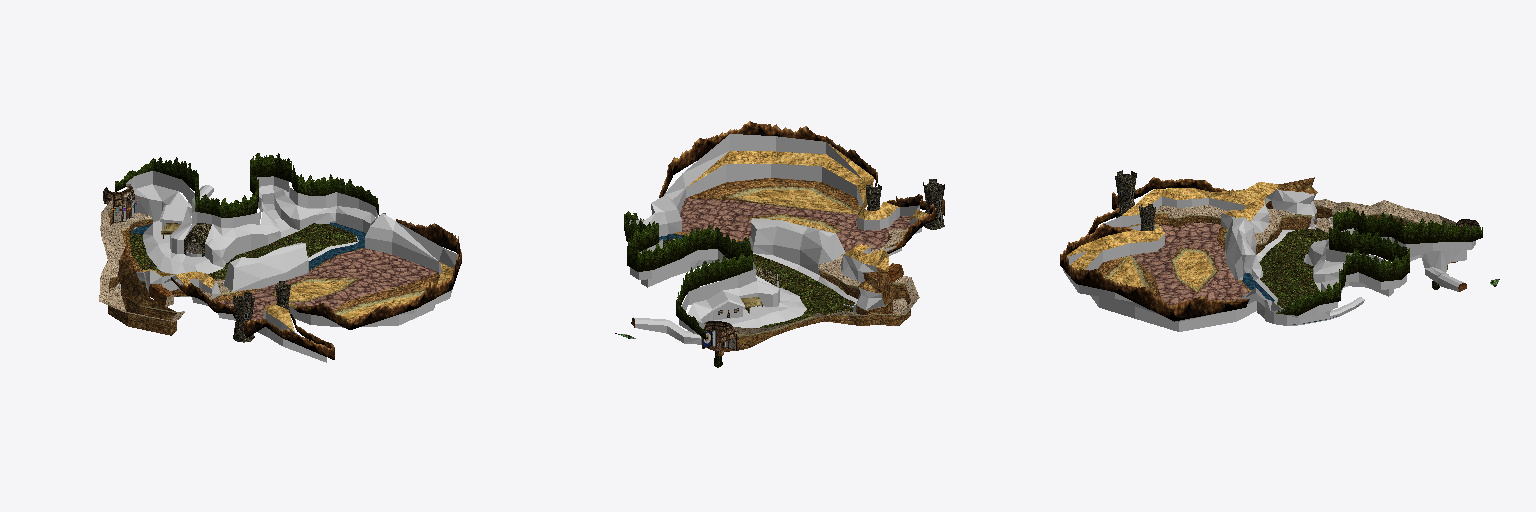
3 views of the same model, side by side, from view 1: azimuth 30°, elevation 25°; view 2: azimuth 150°, elevation 25°; view 3: azimuth 270°, elevation 25° (orthographic).
Parts seen in each view (by area): view 1: #Room0#_Field_DesertWall., #Room0#_Field_SandStoneWall#SFX_0, #Room0#_Field_ExposedDirt#SFX_0#MirrorX, #Room0#_Field_ForestBG#NoCollision, #Room0#_Field_fx_mountains#NoCollision, #Room0#_Field_GrassWall., #Room0#_Field_FirstGreenGrass#SFX_8, #Room0#_Field_Forest_Tree03#NoCollision#BackfaceCulling, #Room0#_Field_Dark_Dirt_Rubbl#SFX_3, #Room0#_Field_Dry_Dirt2#SFX_1#FLOORSPECIAL_SAND, #Room0#_Field_WhiteDirt#SFX_8, #Room0#_Field_Brick_Broke#NoCollision#BackfaceCulling (+1 smaller); view 2: #Room0#_Field_DesertWall., #Room0#_Field_SandStoneWall#SFX_0, #Room0#_Field_ForestBG#NoCollision, #Room0#_Field_Dry_Dirt2#SFX_1#FLOORSPECIAL_SAND, #Room0#_Field_ExposedDirt#SFX_0#MirrorX, #Room0#_Field_GrassWall., #Room0#_Field_fx_mountains#NoCollision, #Room0#_Field_Dark_Dirt_Rubbl#SFX_3, #Room0#_Field_Forest_Tree03#NoCollision#BackfaceCulling, #Room0#_Field_FirstGreenGrass#SFX_8, #Room0#_Field_WhiteDirt#SFX_8, #Room0#_Field_Brick_Broke#NoCollision#BackfaceCulling; view 3: #Room0#_Field_DesertWall., #Room0#_Field_ForestBG#NoCollision, #Room0#_Field_Dry_Dirt2#SFX_1#FLOORSPECIAL_SAND, #Room0#_Field_fx_mountains#NoCollision, #Room0#_Field_ExposedDirt#SFX_0#MirrorX, #Room0#_Field_SandStoneWall#SFX_0, #Room0#_Field_Dark_Dirt_Rubbl#SFX_3, #Room0#_Field_GrassWall., #Room0#_Field_WhiteDirt#SFX_8, #Room0#_Field_Forest_Tree03#NoCollision#BackfaceCulling, #Room0#_Field_Brick_Broke#NoCollision#BackfaceCulling, #Room0#_Field_FirstGreenGrass#SFX_8.
Boxes of the visible parts, x1,y1,x2,y2 form: #Room0#_Field_DesertWall.: [136, 213, 458, 362]; #Room0#_Field_SandStoneWall#SFX_0: [108, 209, 439, 335]; #Room0#_Field_ExposedDirt#SFX_0#MirrorX: [218, 248, 437, 319]; #Room0#_Field_ForestBG#NoCollision: [115, 153, 379, 217]; #Room0#_Field_fx_mountains#NoCollision: [171, 219, 461, 359]; #Room0#_Field_GrassWall.: [135, 185, 374, 296]; #Room0#_Field_FirstGreenGrass#SFX_8: [133, 184, 375, 264]; #Room0#_Field_Forest_Tree03#NoCollision#BackfaceCulling: [126, 171, 377, 227]; #Room0#_Field_Dark_Dirt_Rubbl#SFX_3: [129, 223, 357, 279]; #Room0#_Field_Dry_Dirt2#SFX_1#FLOORSPECIAL_SAND: [140, 262, 453, 331]; #Room0#_Field_WhiteDirt#SFX_8: [99, 199, 233, 321]; #Room0#_Field_Brick_Broke#NoCollision#BackfaceCulling: [233, 281, 290, 342]; #Room0#_Field_DesertWall.: [651, 134, 921, 309]; #Room0#_Field_SandStoneWall#SFX_0: [673, 178, 910, 355]; #Room0#_Field_ForestBG#NoCollision: [624, 211, 752, 339]; #Room0#_Field_Dry_Dirt2#SFX_1#FLOORSPECIAL_SAND: [687, 144, 927, 271]; #Room0#_Field_ExposedDirt#SFX_0#MirrorX: [679, 198, 906, 350]; #Room0#_Field_GrassWall.: [633, 214, 857, 344]; #Room0#_Field_fx_mountains#NoCollision: [659, 121, 944, 253]; #Room0#_Field_Dark_Dirt_Rubbl#SFX_3: [663, 239, 854, 327]; #Room0#_Field_Forest_Tree03#NoCollision#BackfaceCulling: [629, 220, 755, 334]; #Room0#_Field_FirstGreenGrass#SFX_8: [643, 213, 789, 323]; #Room0#_Field_WhiteDirt#SFX_8: [727, 228, 919, 348]; #Room0#_Field_Brick_Broke#NoCollision#BackfaceCulling: [866, 179, 944, 229]; #Room0#_Field_DesertWall.: [1063, 189, 1317, 331]; #Room0#_Field_ForestBG#NoCollision: [1276, 207, 1482, 315]; #Room0#_Field_Dry_Dirt2#SFX_1#FLOORSPECIAL_SAND: [1067, 182, 1278, 289]; #Room0#_Field_fx_mountains#NoCollision: [1060, 177, 1249, 321]; #Room0#_Field_ExposedDirt#SFX_0#MirrorX: [1130, 222, 1248, 305]; #Room0#_Field_SandStoneWall#SFX_0: [1098, 177, 1457, 298]; #Room0#_Field_Dark_Dirt_Rubbl#SFX_3: [1259, 227, 1328, 308]; #Room0#_Field_GrassWall.: [1255, 230, 1466, 325]; #Room0#_Field_WhiteDirt#SFX_8: [1156, 199, 1455, 244]; #Room0#_Field_Forest_Tree03#NoCollision#BackfaceCulling: [1272, 228, 1475, 317]; #Room0#_Field_Brick_Broke#NoCollision#BackfaceCulling: [1115, 170, 1155, 230]; #Room0#_Field_FirstGreenGrass#SFX_8: [1276, 239, 1344, 308].
Bounding box in the file's own units: 5777 × 1742 × 7479.
45 materials, 29 textured.